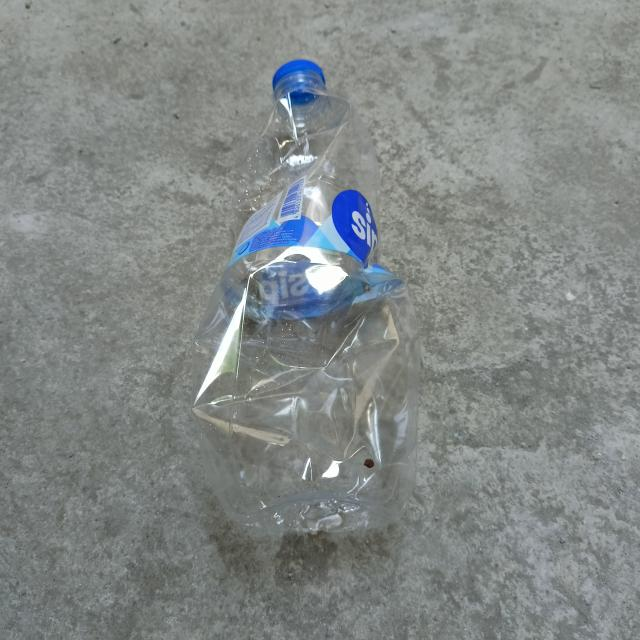Bottle: (189, 58, 421, 544)
